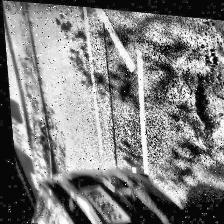pothole: (184, 45, 224, 133)
